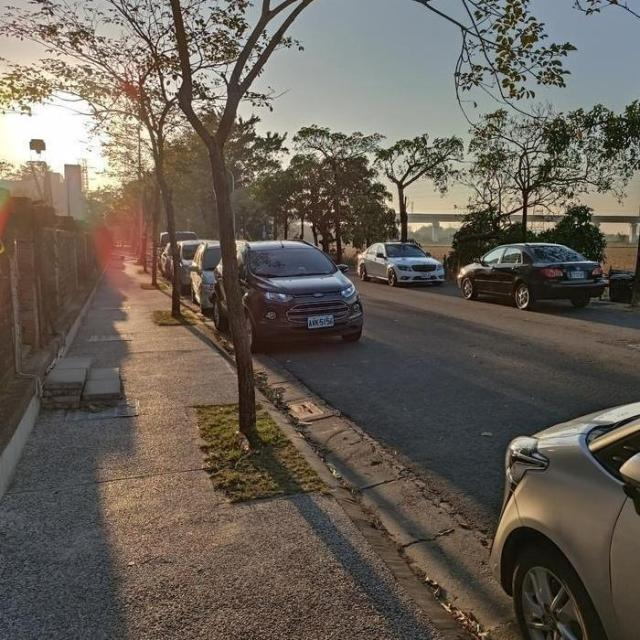W: (307, 313, 334, 328), (569, 267, 585, 279), (418, 270, 431, 277)
